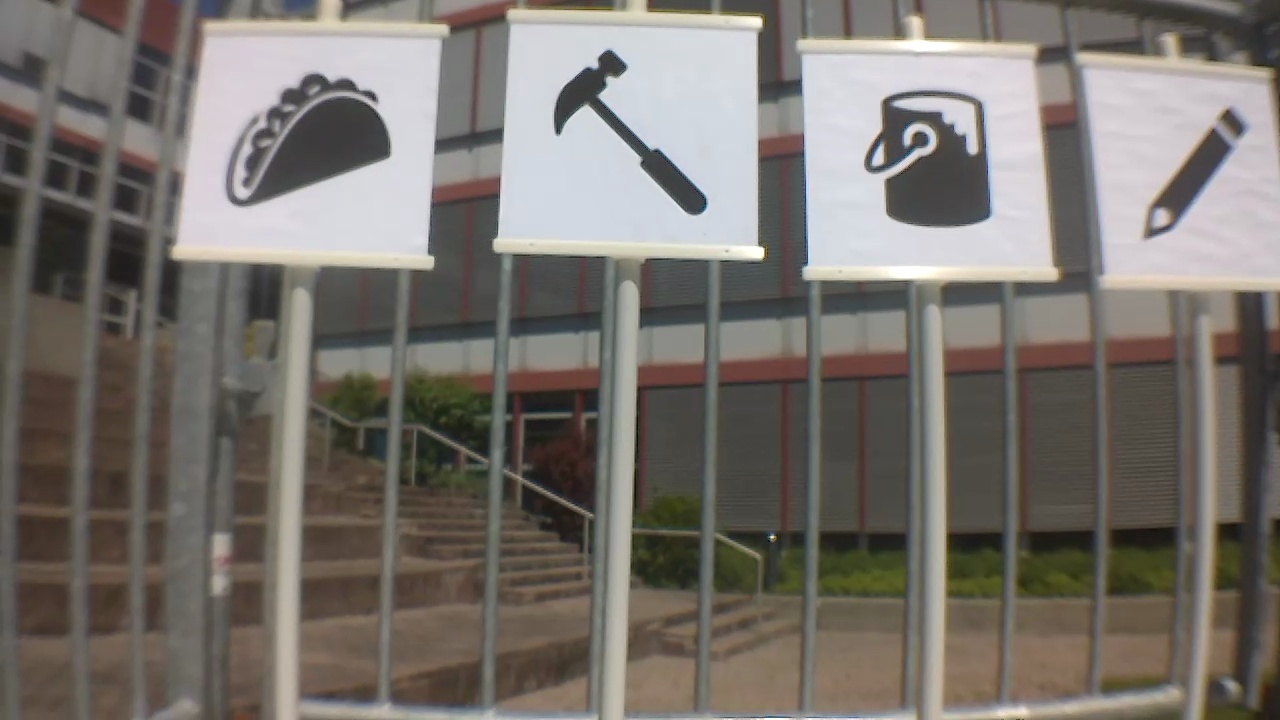bucket: (862, 87, 995, 232)
hammer: (536, 40, 725, 224)
pencil: (1133, 103, 1260, 242)
taco: (224, 72, 398, 209)
